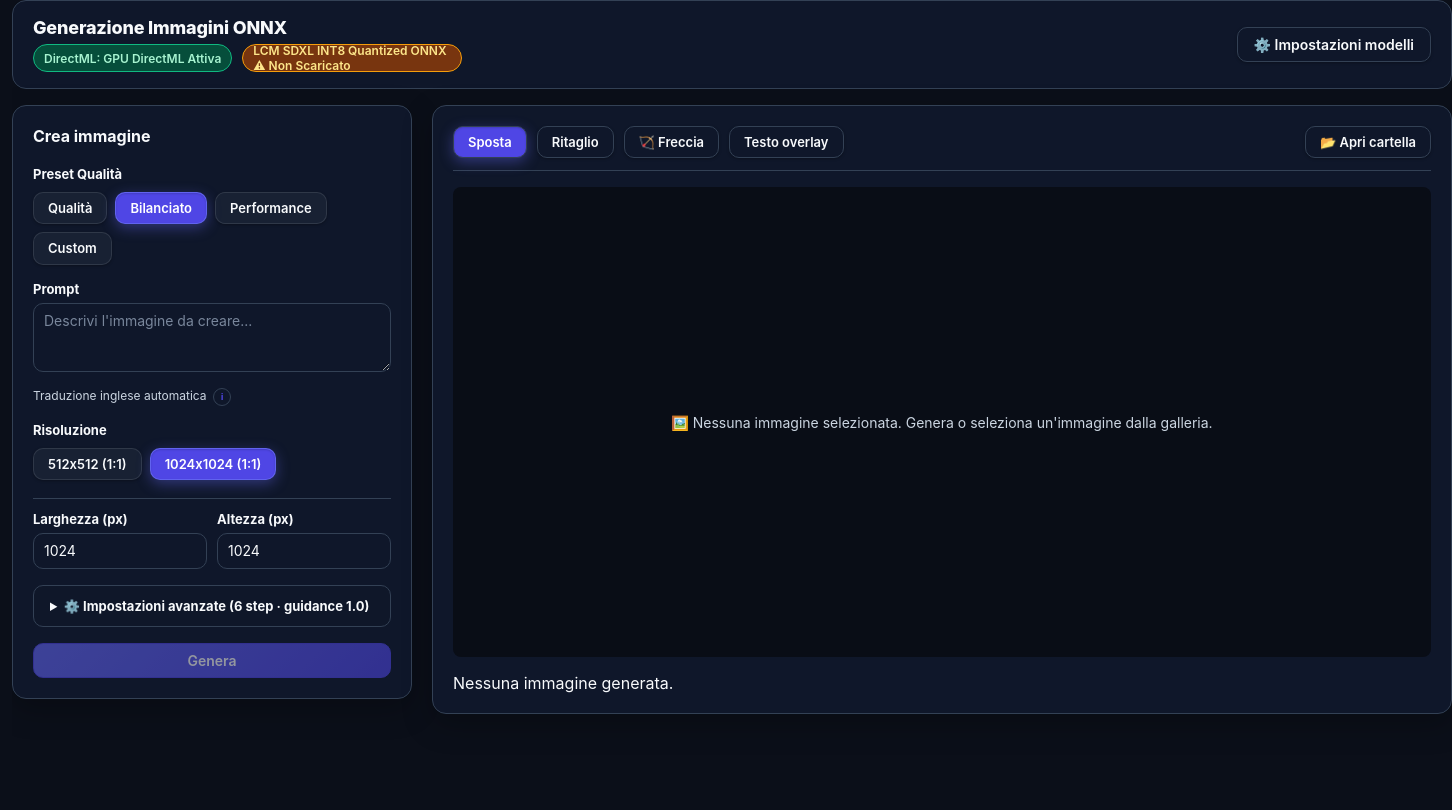
ImagesSection › requires a verified model before generation
Expected: the heading "Crea immagine" is shown, [33,126,150,146]
Type "Una libreria futuristica" into the text box labelled "Prompt" at (212,337), box [33,302,391,372]
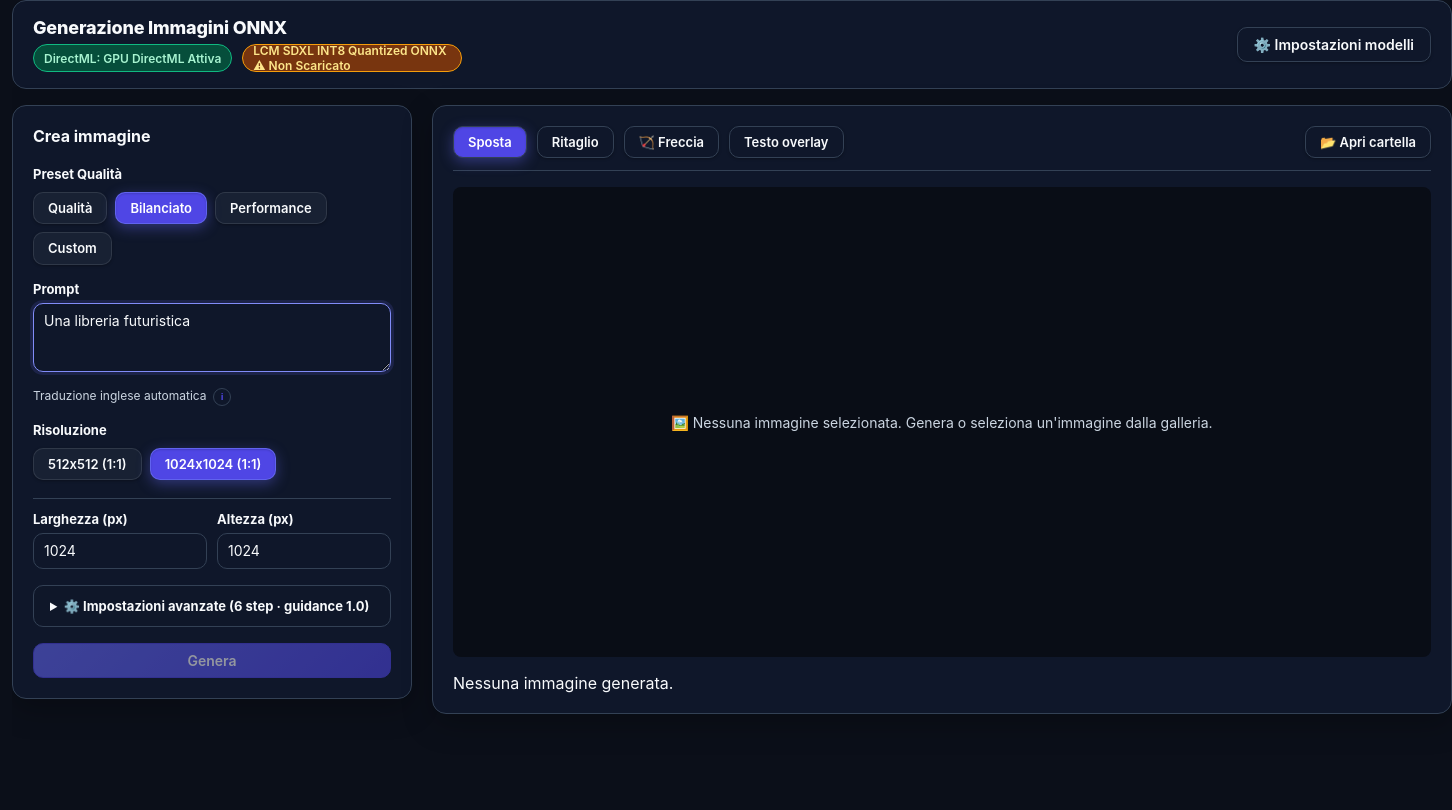
Expected: the button "Genera" is disabled, [33,643,391,678]
Submit the form labelled "Prompt", box [33,166,391,678]
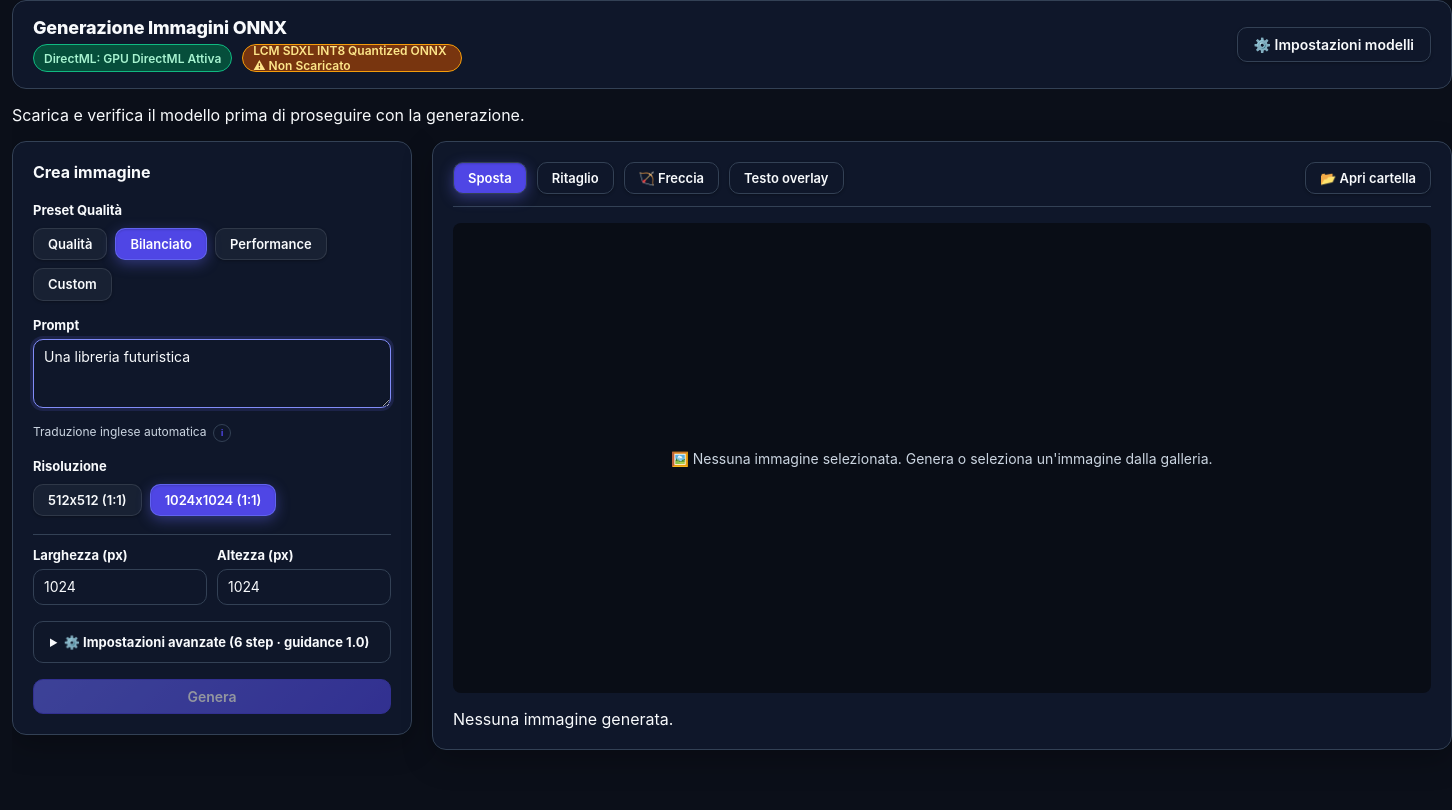
Now the message "Scarica e verifica il modello prima di proseguire con la generazione." is shown, box [12,105,524,125]
